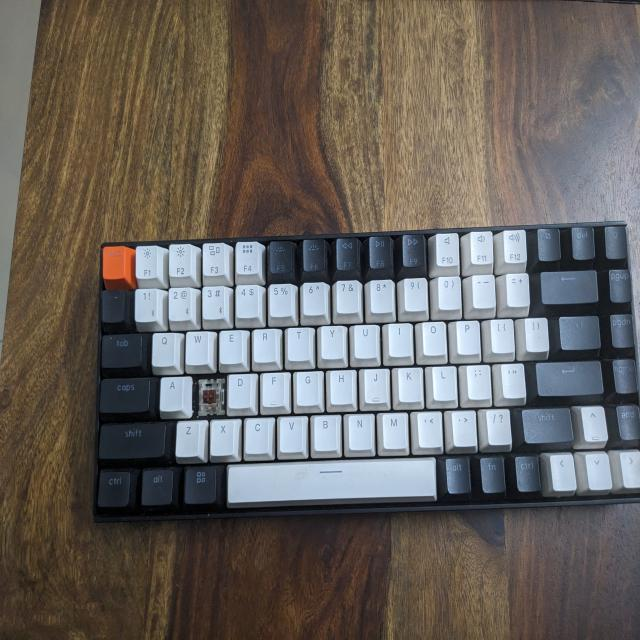key-switch: (199, 379, 224, 415)
